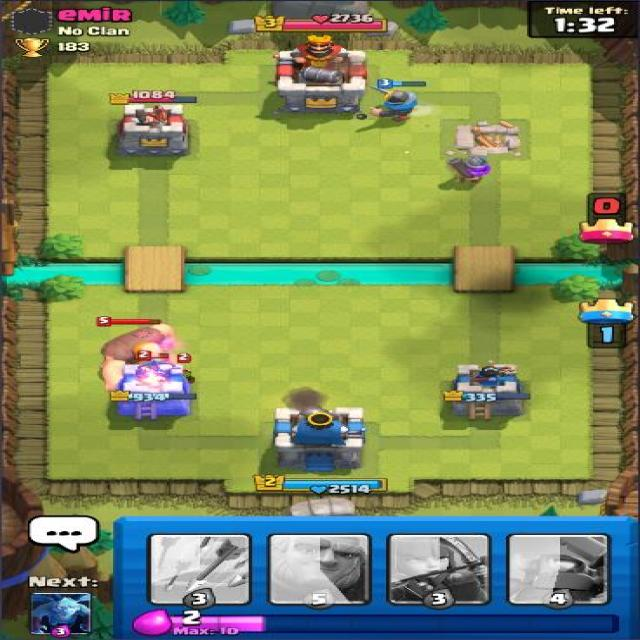Enemy-Giant: (94, 314, 179, 396)
Enemy-Goblin: (165, 351, 205, 387), (134, 348, 174, 382)
Player-Knight: (367, 78, 428, 124)
Player-Musketeer: (442, 151, 494, 185)
